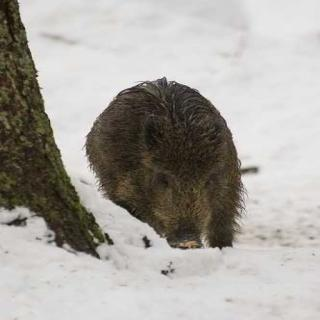Pig: (83, 68, 244, 263)
